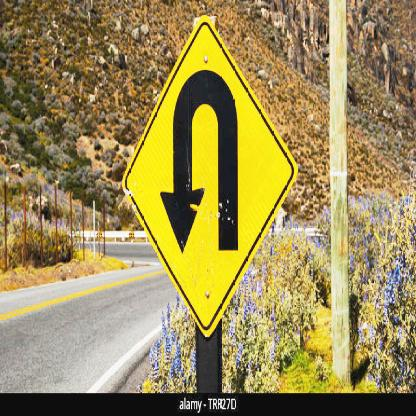U-turn: (124, 23, 294, 335)
